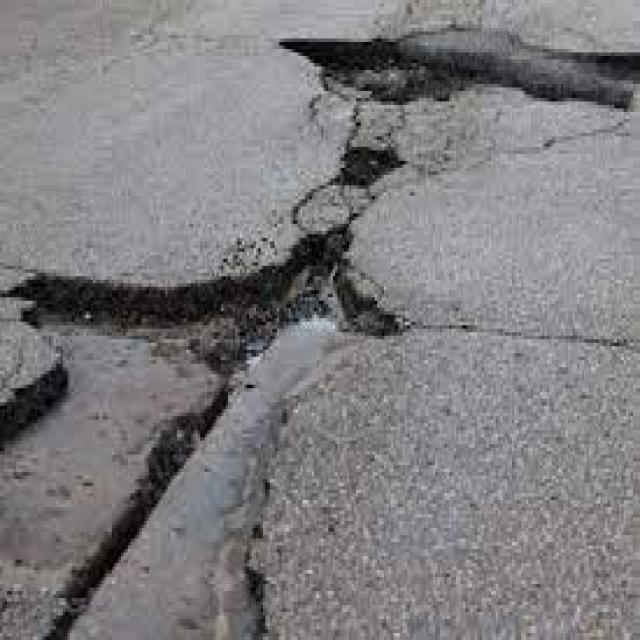Pothole: (0, 140, 407, 640), (279, 31, 640, 133)
